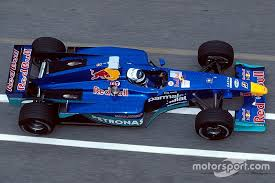FormulaOneCar: (4, 34, 272, 145)
